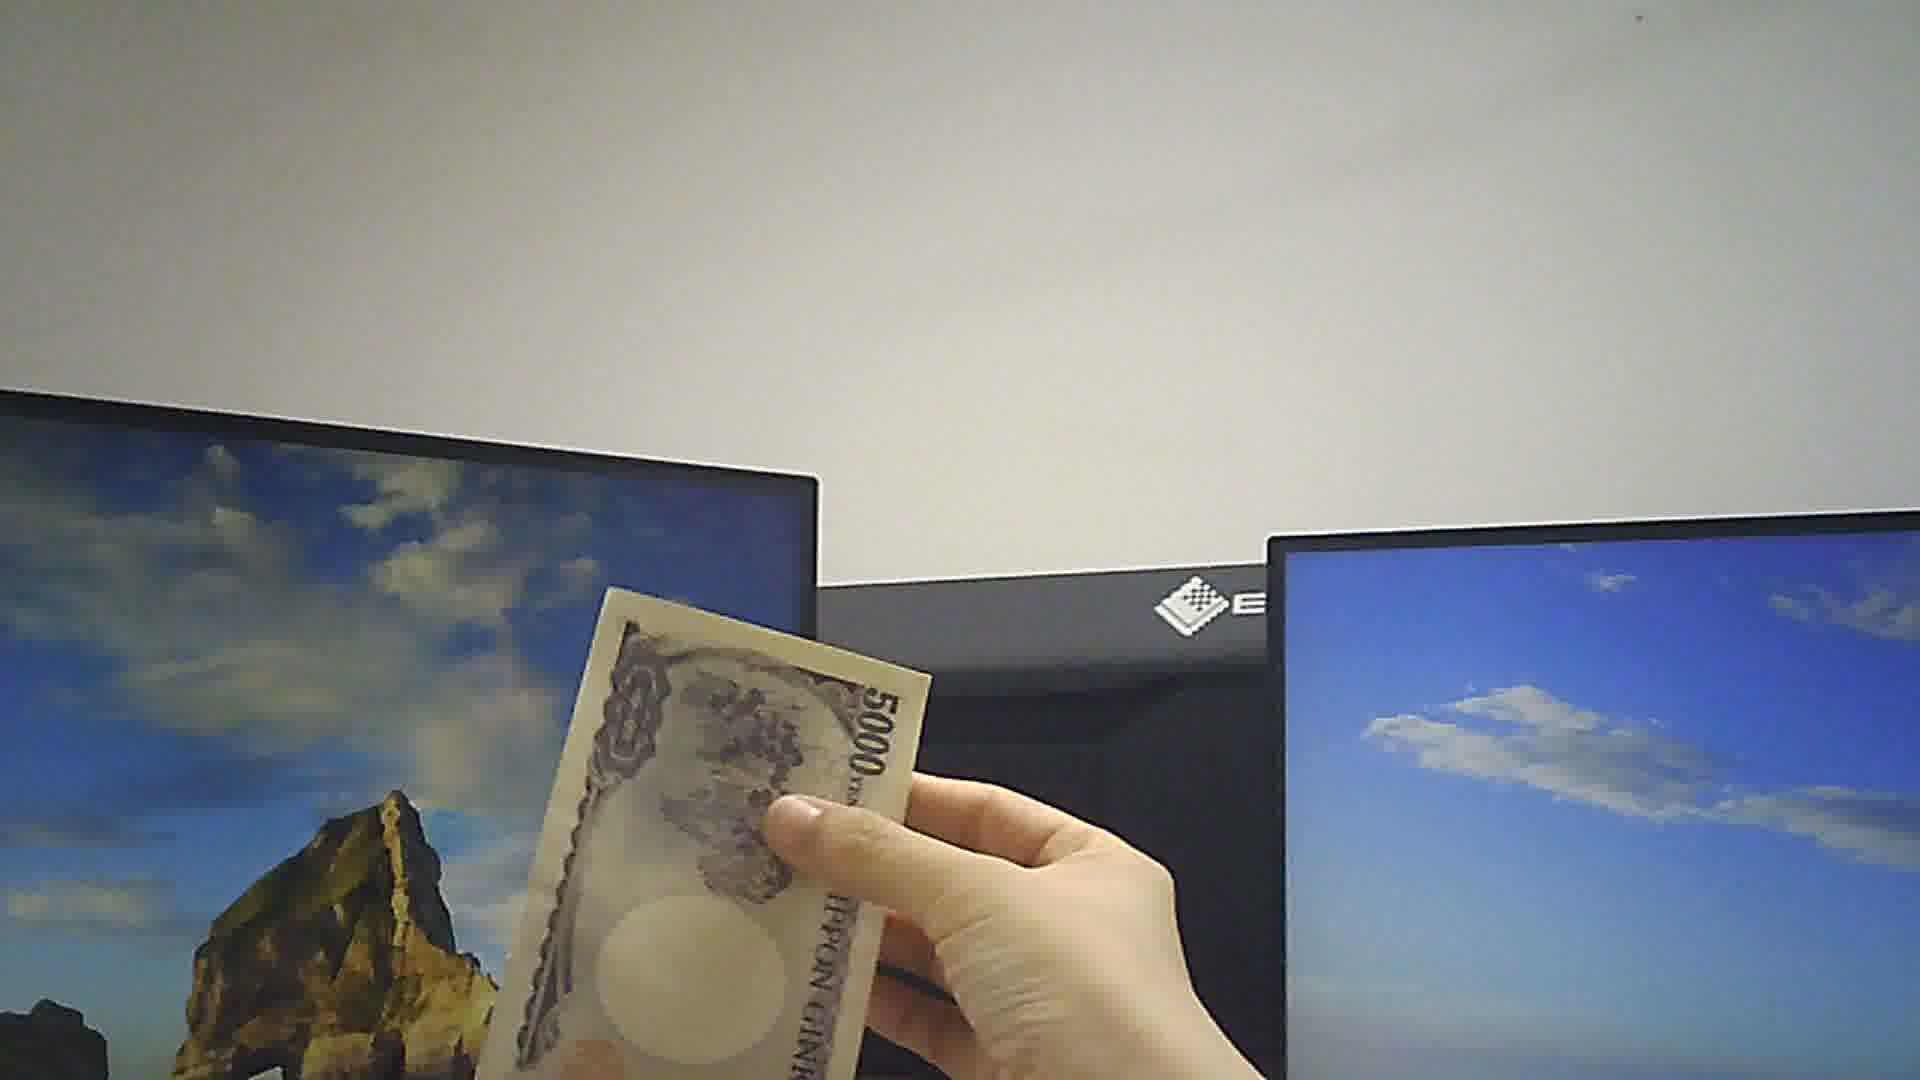5,000 Yen: (475, 570, 906, 1079)
